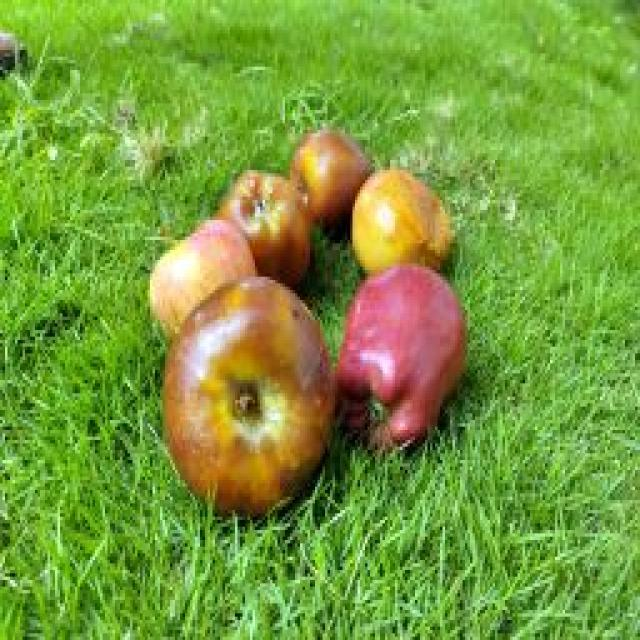Organik: (160, 284, 328, 522), (336, 260, 466, 453), (205, 154, 327, 277), (349, 169, 459, 287), (150, 219, 255, 338), (294, 120, 374, 240)
